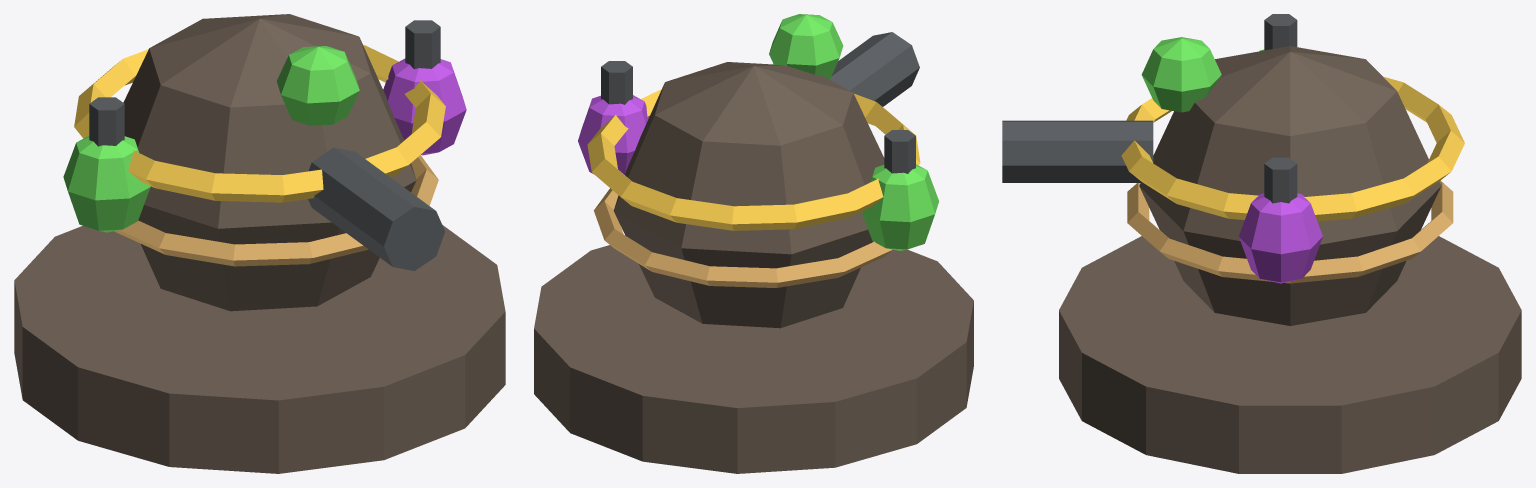
File: TD_AlchemistTower_T1.fbx
3 views of the same model, side by side, from view 1: azimuth 30°, elevation 25°; view 2: azimuth 150°, elevation 25°; view 3: azimuth 270°, elevation 25° (orthographic). The views are drawn at different scales.
Visible parts, largest first — view 1: TD_AlchemistTower_T1_Base, TD_AlchemistTower_T1_Kettle, TD_AlchemistTower_T1_GoldBodyRing, TD_AlchemistTower_T1_Nozzle, TD_AlchemistTower_T1_BrassFrame, TD_AlchemistTower_T1_Potion_GreenSide_01_Body, TD_AlchemistTower_T1_GreenEnergyAccent, TD_AlchemistTower_T1_Potion_PurpleSide_01_Body, TD_AlchemistTower_T1_Potion_GreenSide_01_Neck, TD_AlchemistTower_T1_Potion_PurpleSide_01_Neck; view 2: TD_AlchemistTower_T1_Base, TD_AlchemistTower_T1_Kettle, TD_AlchemistTower_T1_GoldBodyRing, TD_AlchemistTower_T1_BrassFrame, TD_AlchemistTower_T1_Potion_GreenSide_01_Body, TD_AlchemistTower_T1_Nozzle, TD_AlchemistTower_T1_GreenEnergyAccent, TD_AlchemistTower_T1_Potion_PurpleSide_01_Body, TD_AlchemistTower_T1_Potion_GreenSide_01_Neck, TD_AlchemistTower_T1_Potion_PurpleSide_01_Neck; view 3: TD_AlchemistTower_T1_Base, TD_AlchemistTower_T1_Kettle, TD_AlchemistTower_T1_GoldBodyRing, TD_AlchemistTower_T1_Nozzle, TD_AlchemistTower_T1_BrassFrame, TD_AlchemistTower_T1_Potion_PurpleSide_01_Body, TD_AlchemistTower_T1_GreenEnergyAccent, TD_AlchemistTower_T1_Potion_PurpleSide_01_Neck, TD_AlchemistTower_T1_Potion_GreenSide_01_Neck.
Part boxes in pixels (x1,y1,x2,y2): TD_AlchemistTower_T1_Base: (14,225,505,473); TD_AlchemistTower_T1_Kettle: (123,14,416,311); TD_AlchemistTower_T1_GoldBodyRing: (74,45,445,202); TD_AlchemistTower_T1_Nozzle: (308,147,445,270); TD_AlchemistTower_T1_BrassFrame: (114,155,438,266); TD_AlchemistTower_T1_Potion_GreenSide_01_Body: (63,135,150,232); TD_AlchemistTower_T1_GreenEnergyAccent: (276,46,359,125); TD_AlchemistTower_T1_Potion_PurpleSide_01_Body: (383,58,466,155); TD_AlchemistTower_T1_Potion_GreenSide_01_Neck: (89,97,124,146); TD_AlchemistTower_T1_Potion_PurpleSide_01_Neck: (405,20,440,69); TD_AlchemistTower_T1_Base: (534,241,973,473); TD_AlchemistTower_T1_Kettle: (613,62,884,328); TD_AlchemistTower_T1_GoldBodyRing: (587,89,920,230); TD_AlchemistTower_T1_BrassFrame: (593,188,892,287); TD_AlchemistTower_T1_Potion_GreenSide_01_Body: (861,164,938,250); TD_AlchemistTower_T1_Nozzle: (830,32,919,106); TD_AlchemistTower_T1_GreenEnergyAccent: (769,14,843,79); TD_AlchemistTower_T1_Potion_PurpleSide_01_Body: (578,95,649,174); TD_AlchemistTower_T1_Potion_GreenSide_01_Neck: (884,130,915,173); TD_AlchemistTower_T1_Potion_PurpleSide_01_Neck: (601,61,632,104); TD_AlchemistTower_T1_Base: (1059,236,1521,473); TD_AlchemistTower_T1_Kettle: (1139,46,1441,325); TD_AlchemistTower_T1_GoldBodyRing: (1121,76,1464,221); TD_AlchemistTower_T1_Nozzle: (1002,120,1153,182); TD_AlchemistTower_T1_BrassFrame: (1127,180,1453,283); TD_AlchemistTower_T1_Potion_PurpleSide_01_Body: (1239,193,1322,283); TD_AlchemistTower_T1_GreenEnergyAccent: (1141,37,1221,112); TD_AlchemistTower_T1_Potion_PurpleSide_01_Neck: (1264,157,1297,203); TD_AlchemistTower_T1_Potion_GreenSide_01_Neck: (1264,14,1297,50).
Size of the model in its own units: 0.9554 by 0.795 by 1.1.
